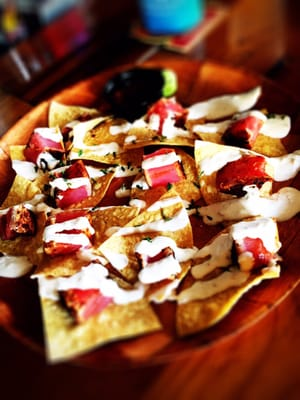pizza: (135, 0, 207, 35)
